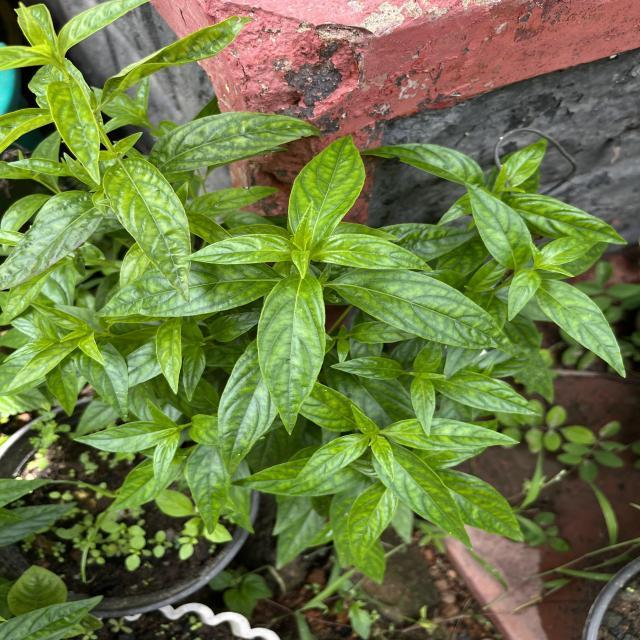Andrographis paniculata: (334, 268, 521, 360), (104, 159, 196, 303), (256, 274, 329, 436), (142, 111, 326, 174), (93, 262, 289, 318), (380, 442, 474, 552), (0, 192, 102, 290), (536, 278, 628, 378), (215, 339, 278, 476), (286, 133, 367, 238), (506, 191, 630, 246), (46, 75, 103, 186), (442, 468, 526, 542), (463, 181, 532, 270), (358, 142, 486, 186), (434, 368, 542, 417), (308, 233, 437, 274), (380, 416, 522, 452), (346, 482, 399, 566), (4, 336, 80, 393), (291, 433, 371, 486), (76, 345, 130, 422), (186, 444, 231, 536), (184, 234, 292, 268), (491, 138, 548, 190), (153, 316, 189, 396), (72, 420, 162, 452), (195, 186, 282, 217), (330, 356, 403, 380), (153, 432, 181, 492), (410, 376, 436, 437), (368, 438, 402, 482), (349, 404, 381, 438)
